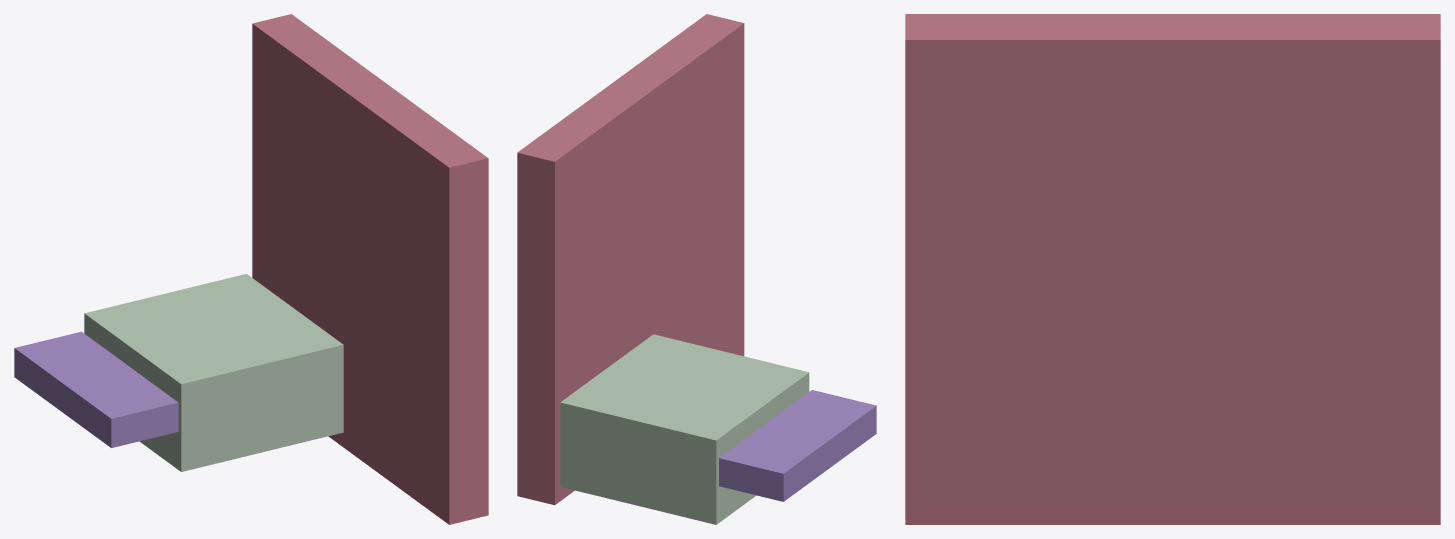
File: 199504_pred.glb
3 renders of one model, left to right at view 1: azimuth 30°, elevation 25°; view 2: azimuth 150°, elevation 25°; view 3: azimuth 270°, elevation 25°, orthographic. The views are drawn at different scales.
Visible parts, largest first — view 1: world; view 2: world; view 3: world.
Boxes of the visible parts, left/top/right/bottom form: world: left=14, top=14, right=488, bottom=524; world: left=517, top=14, right=876, bottom=524; world: left=905, top=14, right=1440, bottom=524.
Bounding box in the file's own units: 4.95 × 6.1 × 6.1.
